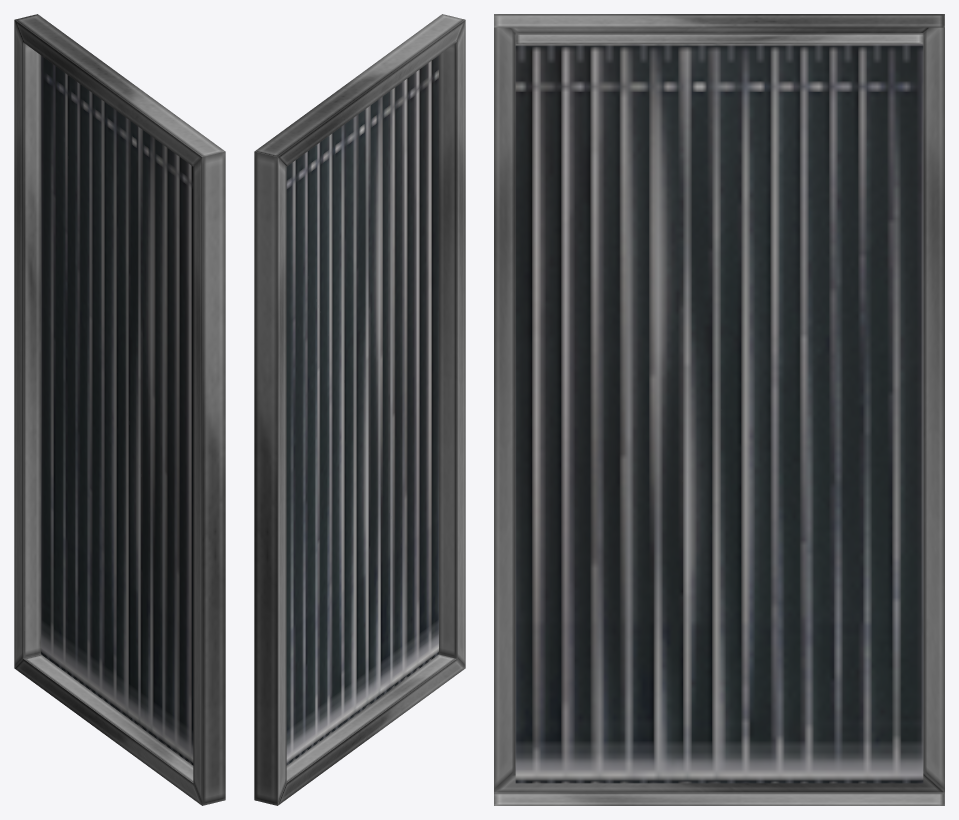
Rendered from SM_SYD_Blinds_Narrow.fbx.
3 renders of one model, left to right at view 1: azimuth 30°, elevation 25°; view 2: azimuth 150°, elevation 25°; view 3: azimuth 270°, elevation 25°, orthographic. The views are drawn at different scales.
Parts seen in each view (by area): view 1: SM_SYD_Blinds_Narrow; view 2: SM_SYD_Blinds_Narrow; view 3: SM_SYD_Blinds_Narrow.
Part boxes in pixels (box(x1,y1,x2,y2)): SM_SYD_Blinds_Narrow: box(14, 14, 225, 805); SM_SYD_Blinds_Narrow: box(254, 14, 465, 805); SM_SYD_Blinds_Narrow: box(494, 14, 944, 805).
Bounding box in the file's own units: 15 × 400 × 210.
